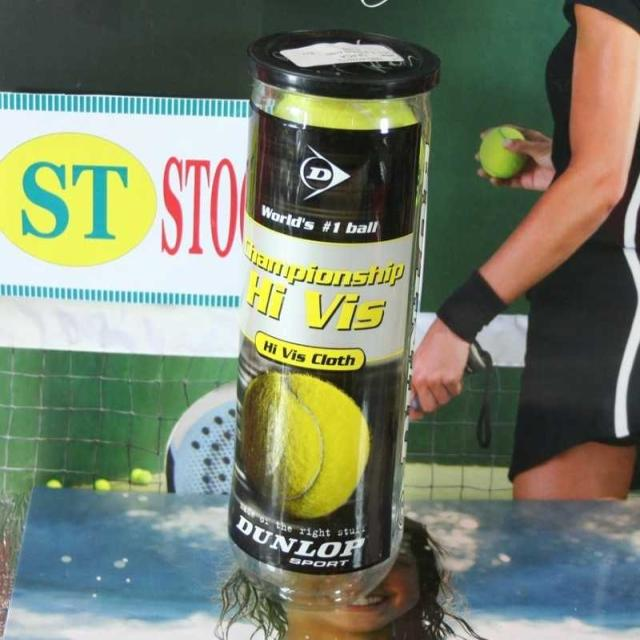Tennis_Ball: (483, 125, 524, 182)
